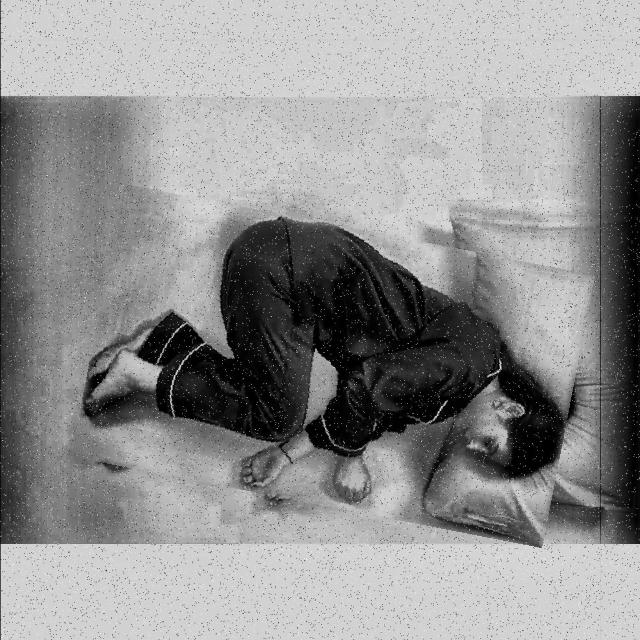Not_Supine: (84, 219, 564, 502)
